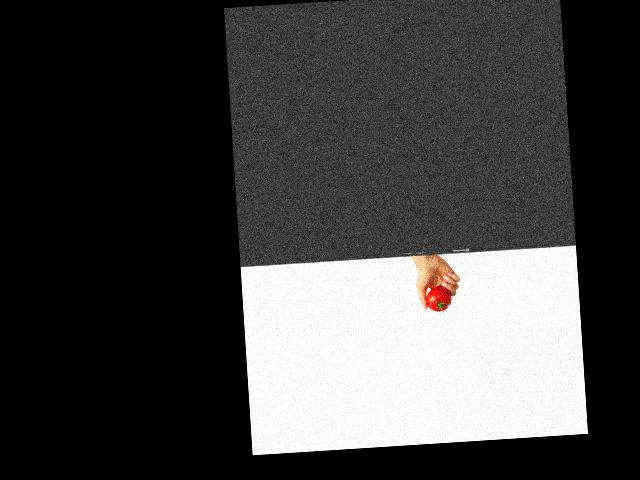tomato: (425, 285, 451, 312)
